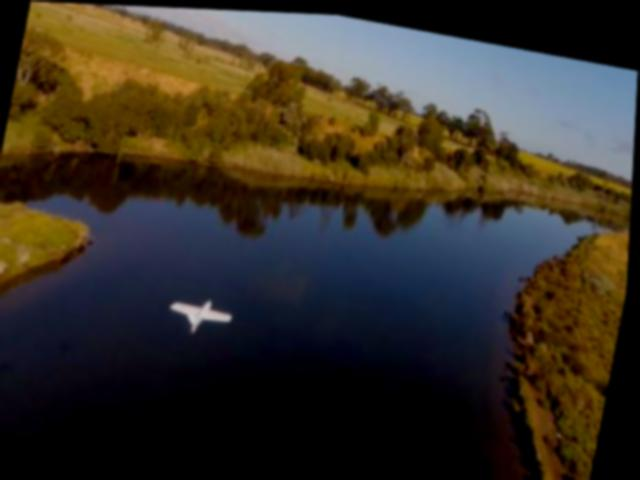uav: (169, 288, 240, 339)
